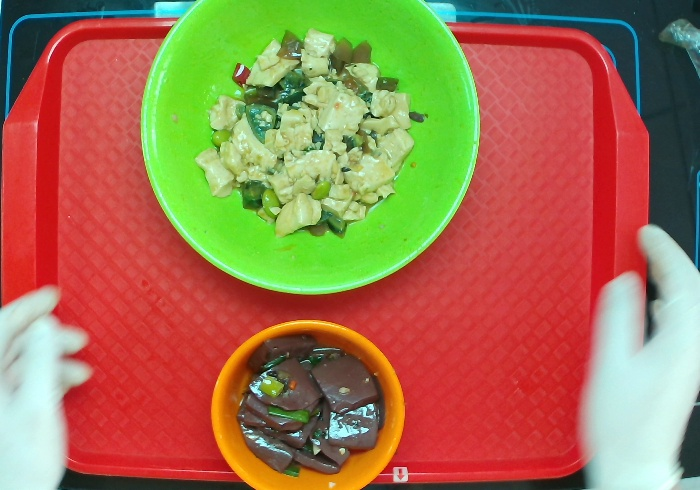YKMZ-Ju_Se_Yuan_Wan: (206, 318, 404, 490)
YKMZ-Lv_Se_Tang_Wan: (139, 1, 484, 300)
